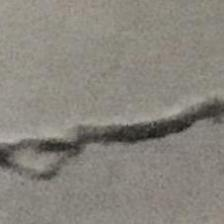Crack: (5, 97, 224, 184)
